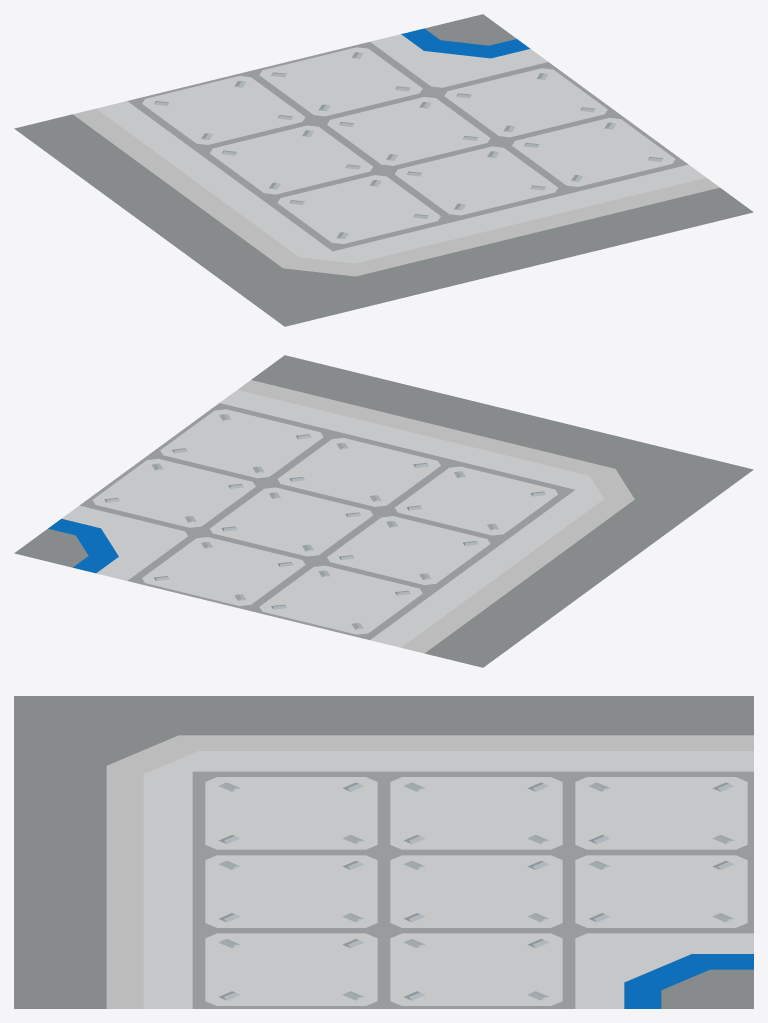
Rendered from Floor_type_A_005.glb.
The picture shows the model from 3 angles, top to bottom: view 1: azimuth 30°, elevation 25°; view 2: azimuth 150°, elevation 25°; view 3: azimuth 270°, elevation 25°; orthographic projection. The views are drawn at different scales.
Parts seen in each view (by area): view 1: Floor_type_A_005; view 2: Floor_type_A_005; view 3: Floor_type_A_005.
Boxes of the visible parts, bbox=[...] form: Floor_type_A_005: bbox=[14, 14, 753, 326]; Floor_type_A_005: bbox=[14, 355, 753, 667]; Floor_type_A_005: bbox=[14, 696, 753, 1008].
Bounding box in the file's own units: 4 × 0.008 × 4.
Materials: 2 (2 with a texture image).
